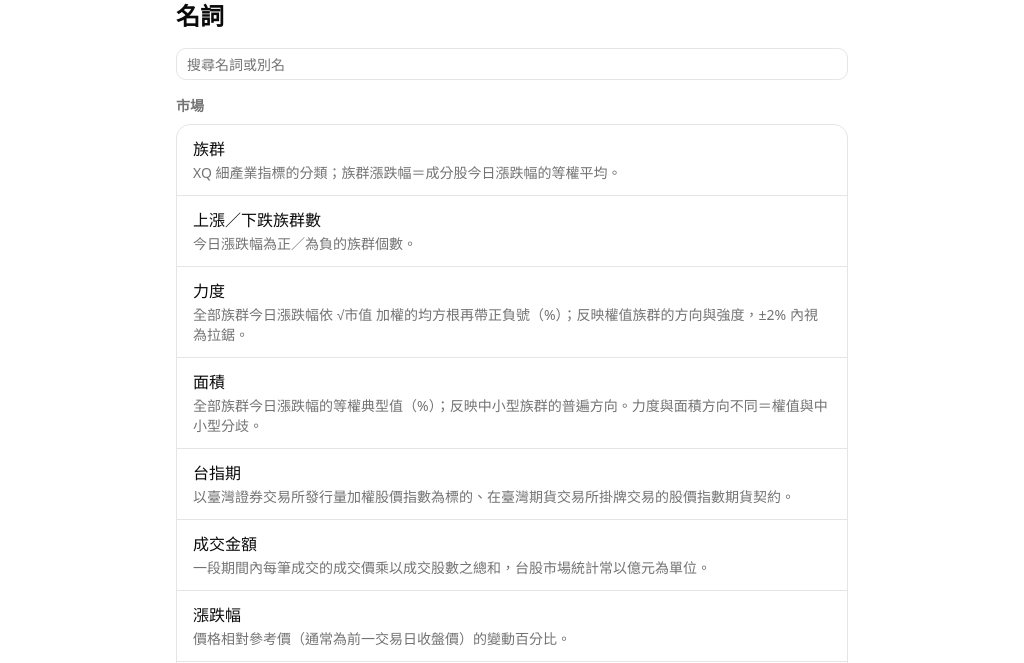
Test: GlossaryScreen › shows the pro text when the device lens is pro
Check: the search field labelled "搜尋名詞" is shown, box 176,48 -> 848,80
Step 1. Click the button "族群 XQ 細產業指標的分類；族群漲跌幅＝成分股今日漲跌幅的等權平均。" → (512,160), box 177,125 -> 847,195
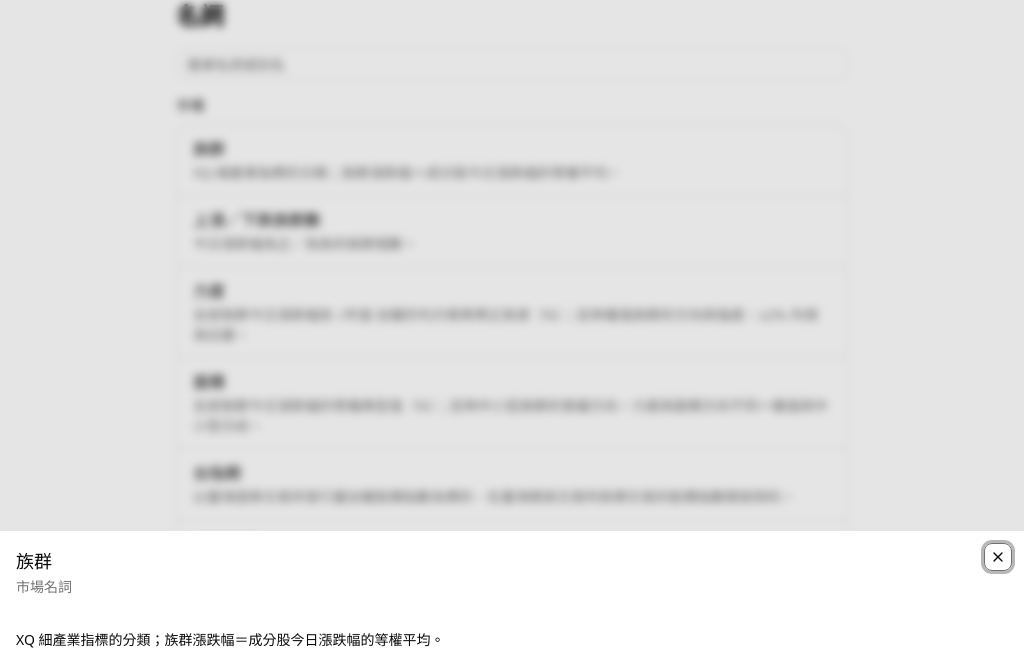
Check: the text "XQ 細產業指標的分類；族群漲跌幅＝成分股今日漲跌幅的等權平均。" is shown, box 16,630 -> 444,649
